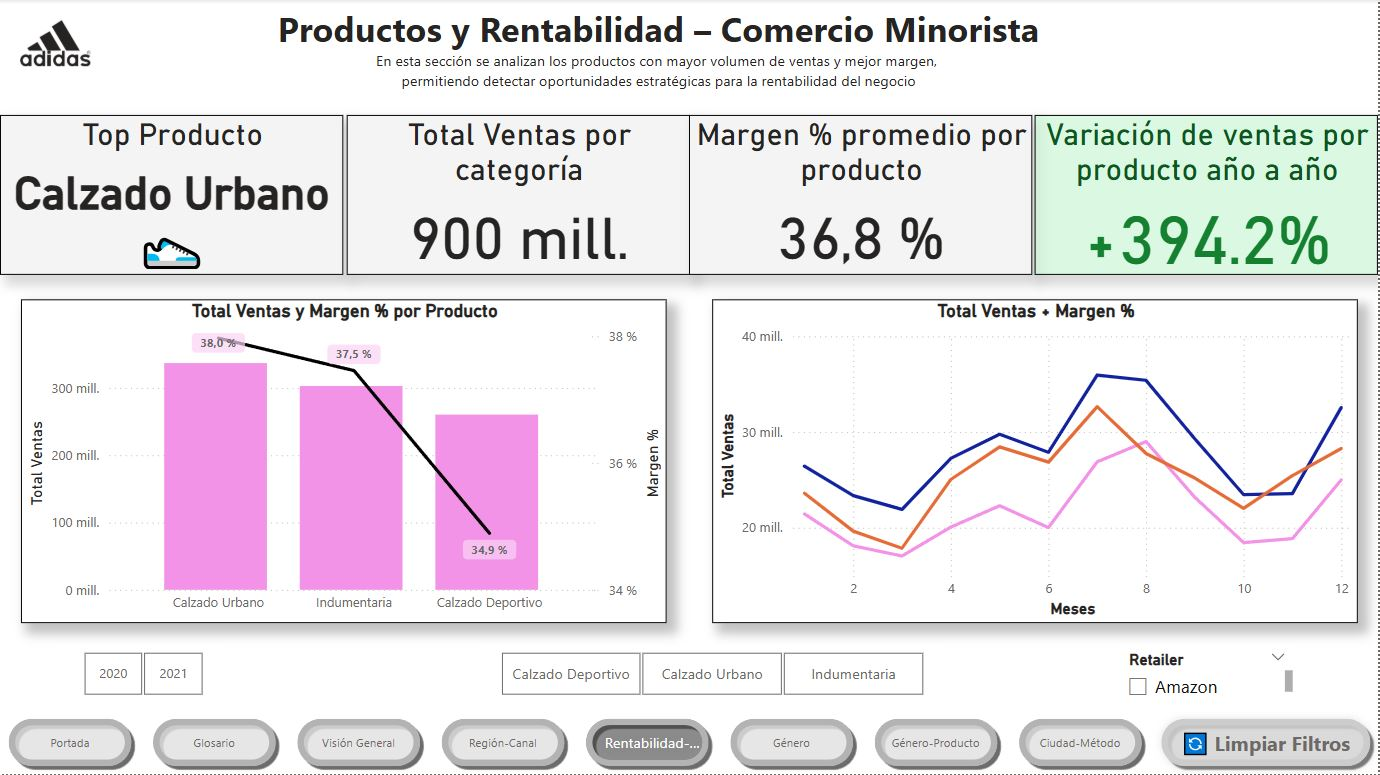

The page's visual inventory and layout, read from the dashboard file:
{"tool":"powerbi","page":{"name":"Rentabilidad-Producto","canvas":[1280,720],"ordinal":4},"visuals":[{"type":"textbox","box":[153.3,0,915.6,88.9],"z":0},{"type":"lineClusteredColumnComboChart","title":"Total Ventas y Margen % por Producto","fields":{"Category":["Producto.Producto"],"Y":["Medidas.Total Ventas"],"Y2":["Medidas.Margen %"]},"box":[19.5,278.9,599.8,300.4],"z":1000},{"type":"lineChart","title":"Total Ventas + Margen %","fields":{"Y":["Medidas.Total Ventas"],"Series":["Producto.Producto"],"Category":["Calendario.Mes_Num"]},"box":[661.4,278.9,599.8,300.4],"z":2000},{"type":"slicer","fields":{"Values":["Retailer.Retailer"]},"box":[1035.6,599.8,170.2,60.5],"z":3000},{"type":"slicer","fields":{"Values":["Producto.Producto"]},"box":[440.2,599.9,441.3,52.9],"z":4000},{"type":"slicer","fields":{"Values":["Calendario.Año"]},"box":[51.8,599.9,159.7,52.9],"z":5000},{"type":"actionButton","box":[1070,660,210,60],"z":6000},{"type":"card","title":"Top Producto","fields":{"Values":["Medidas.Top Producto Icono"]},"box":[0,107.8,318.9,148.9],"z":7000},{"type":"card","title":"Total Ventas por categoría","fields":{"Values":["Medidas.Total Ventas"]},"box":[322.2,107.8,318.9,148.9],"z":8000},{"type":"card","title":"Margen % promedio por producto","fields":{"Values":["Medidas.Margen Promedio por Producto"]},"box":[640,107.8,318.9,148.9],"z":9000},{"type":"card","title":"Variación de ventas por producto año a año","fields":{"Values":["Medidas.Variación YoY Texto"]},"box":[961.1,107.8,318.9,148.9],"z":10000},{"type":"image","box":[13.3,7.2,75.9,68.7],"z":11000},{"type":"pageNavigator","box":[0,660,1068.8,60],"z":12000}]}

Visuals, with their boxes in screenshot pixels (x1, y1, x2, y2), scaled from the page's 1280x720 canvas onto the 1380x775 screenshot:
textbox: BBox(165, 0, 1152, 96)
"Total Ventas y Margen % por Producto" lineClusteredColumnComboChart: BBox(21, 300, 668, 624)
"Total Ventas + Margen %" lineChart: BBox(713, 300, 1360, 624)
slicer - Retailer.Retailer: BBox(1117, 646, 1300, 711)
slicer - Producto.Producto: BBox(475, 646, 950, 703)
slicer - Calendario.Año: BBox(56, 646, 228, 703)
actionButton: BBox(1154, 710, 1379, 774)
"Top Producto" card: BBox(0, 116, 344, 276)
"Total Ventas por categoría" card: BBox(347, 116, 691, 276)
"Margen % promedio por producto" card: BBox(690, 116, 1034, 276)
"Variación de ventas por producto año a año" card: BBox(1036, 116, 1379, 276)
image: BBox(14, 8, 96, 82)
pageNavigator: BBox(0, 710, 1152, 774)
